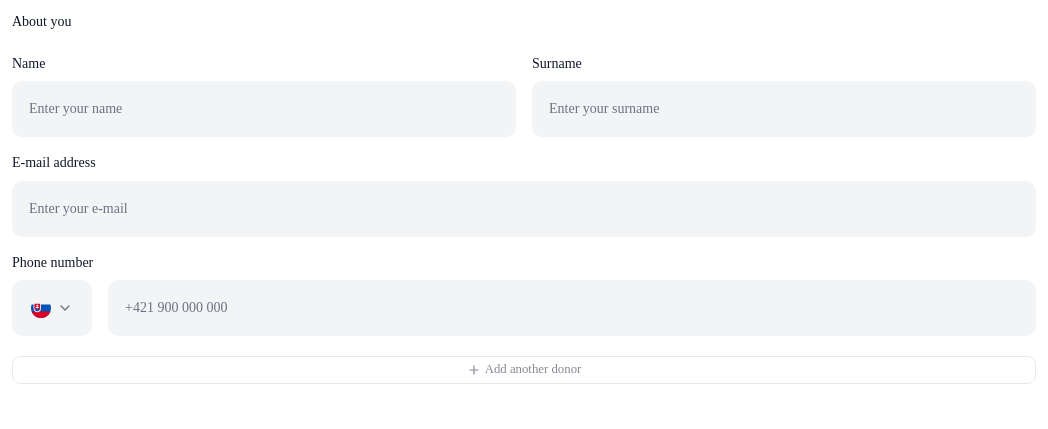
PersonalDetailsStep › clears the surname error once a valid value is entered and blurred
This screenshot has width=1048, height=429.
Type "novak@example.com" into the field labelled "E-mail address" at (524, 208), box [12, 180, 1036, 236]
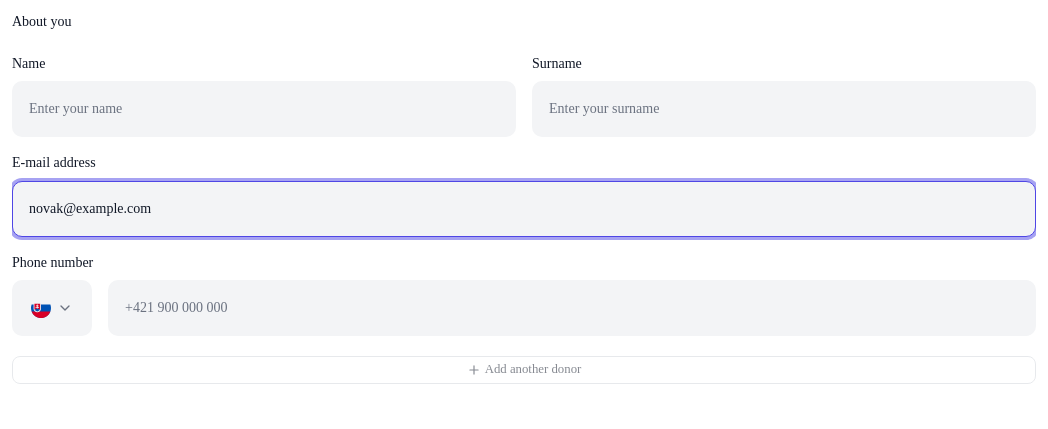
Type "900 000 000" into the field labelled "Phone number" at (572, 308), box [108, 280, 1036, 336]
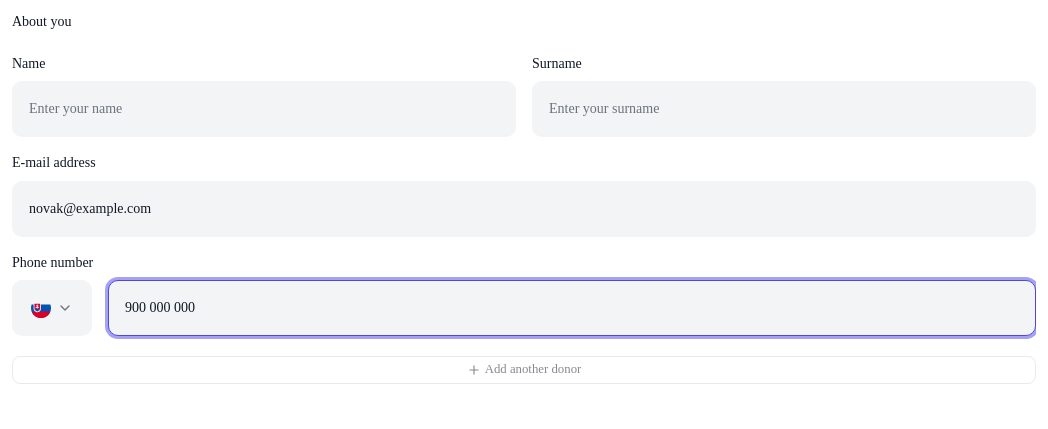
Click the field labelled "Surname" at (784, 109), box [532, 81, 1036, 137]
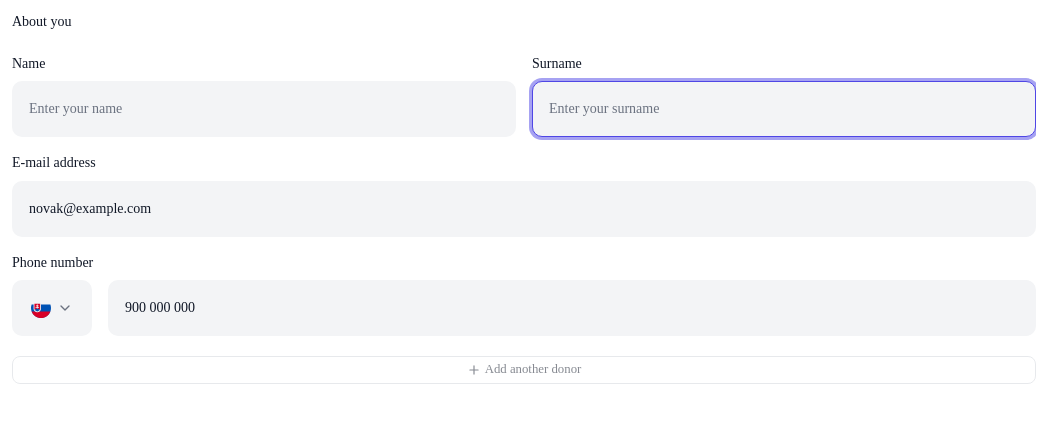
Press Tab
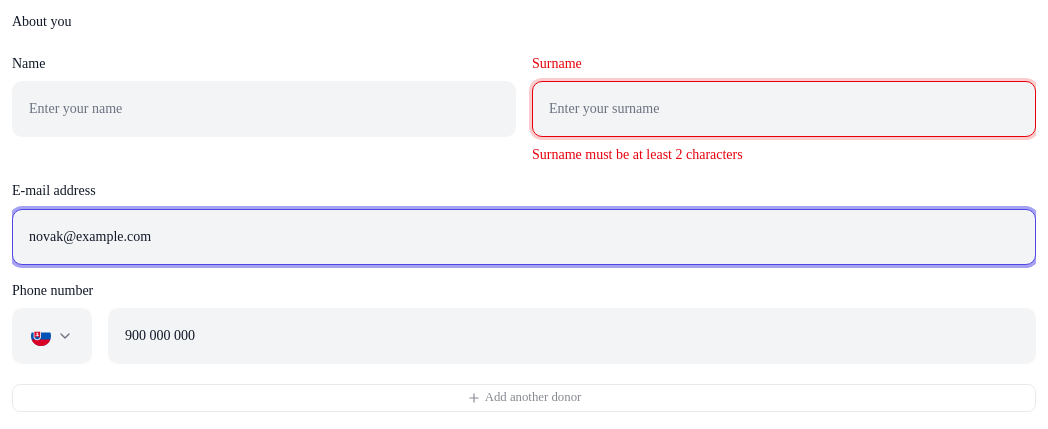
Check: the text "Surname must be at least 2 characters" is shown, box [532, 147, 743, 162]
Type "Novak" into the field labelled "Surname" at (784, 109), box [532, 81, 1036, 137]
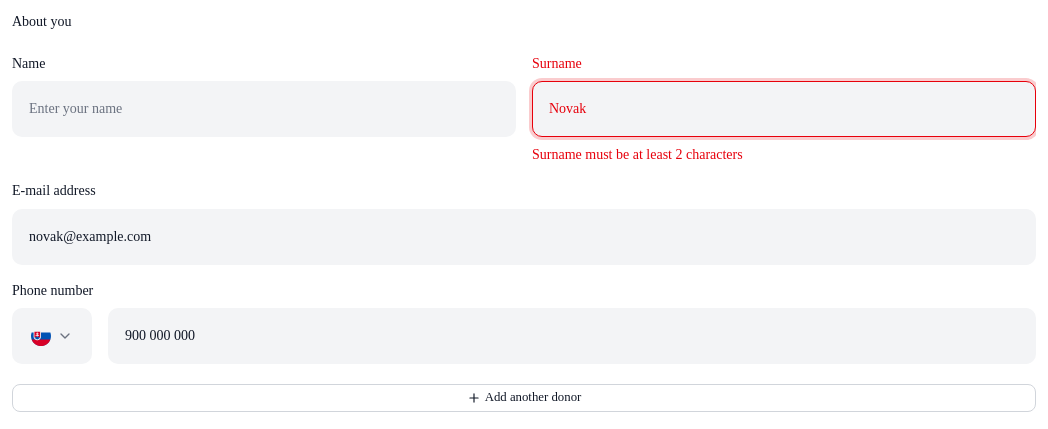
Press Tab
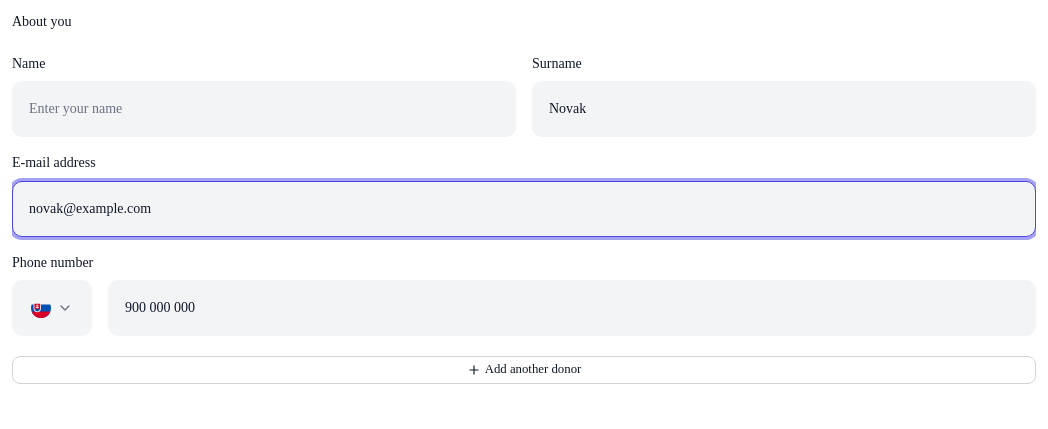
Check: the text "Surname must be at least 2 characters" is gone
